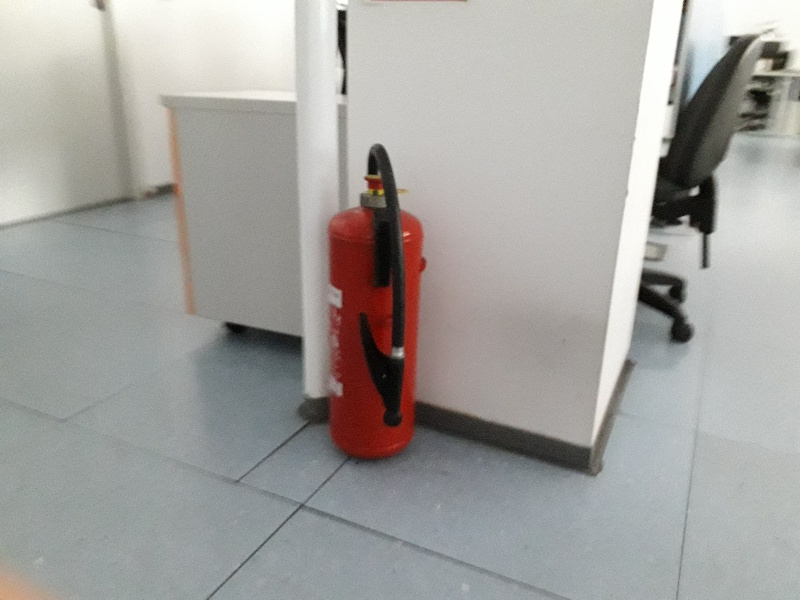vataparat: (328, 145, 424, 458)
